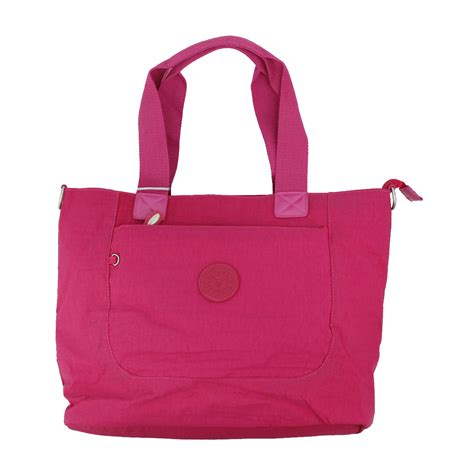nylon: (54, 35, 393, 440)
